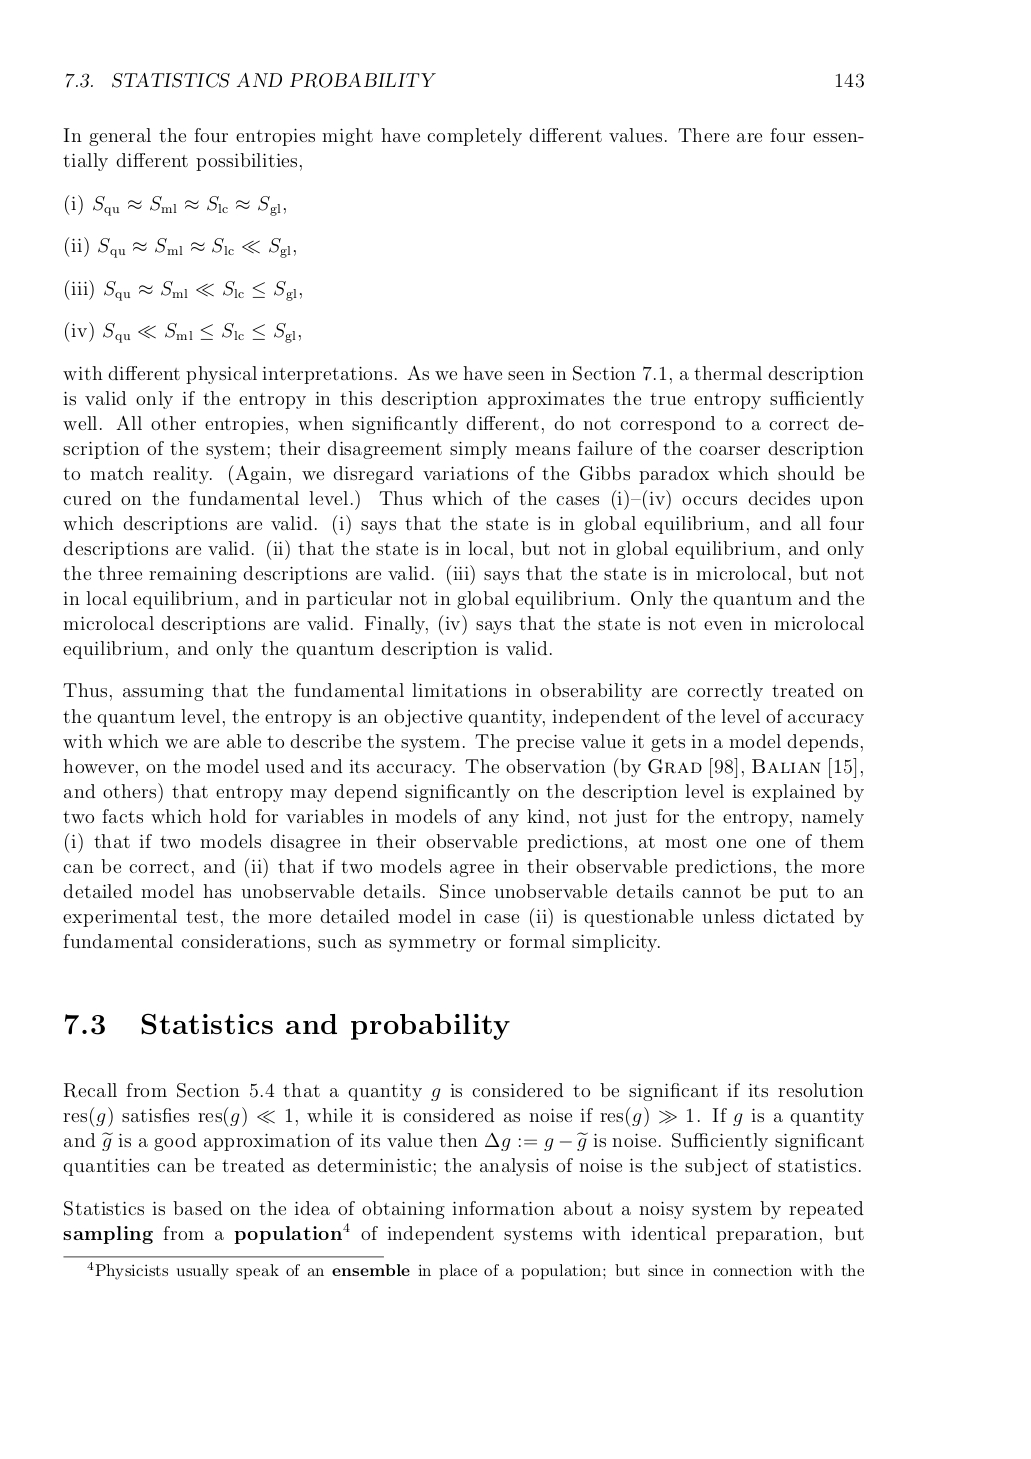formula: (65, 279, 301, 301), (65, 321, 300, 344), (65, 194, 285, 216), (65, 236, 295, 258)
